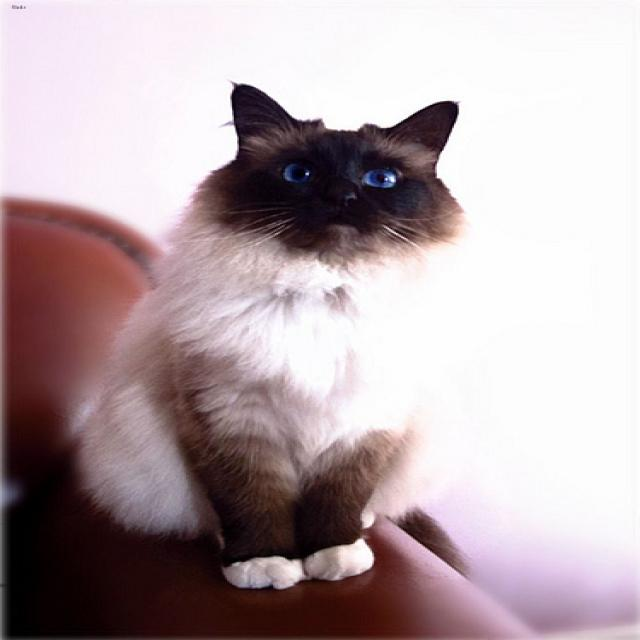cat: (228, 83, 456, 246)
